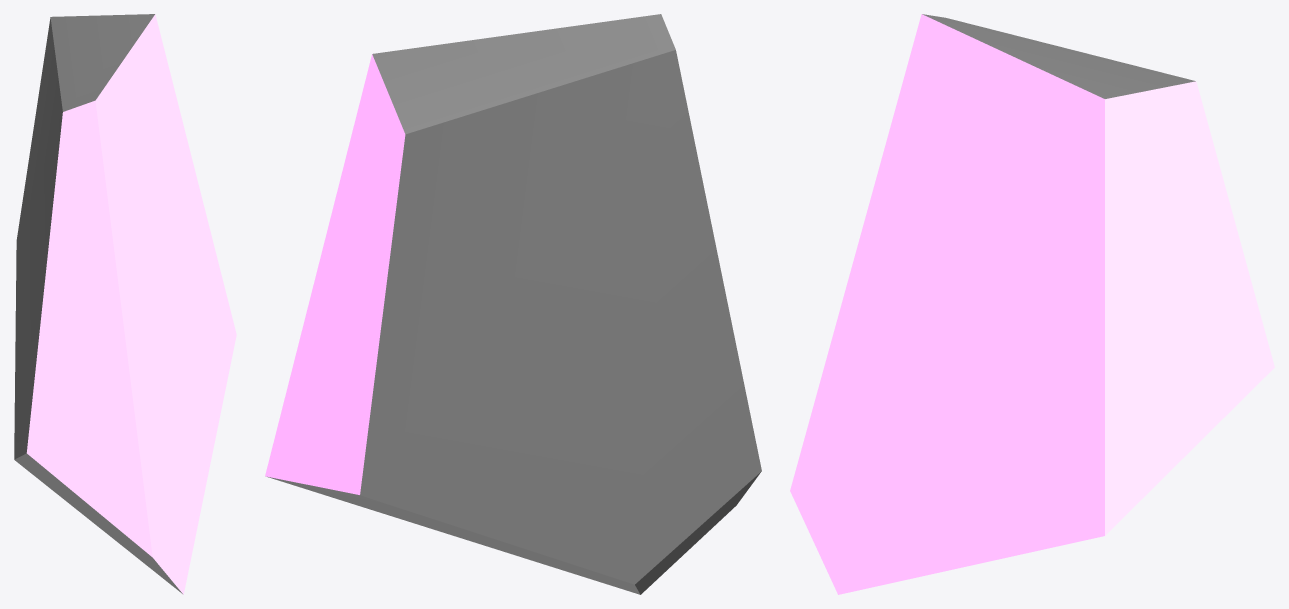
Rendered from Cone_after_004.fbx.
3 renders of one model, left to right at view 1: azimuth 30°, elevation 25°; view 2: azimuth 150°, elevation 25°; view 3: azimuth 270°, elevation 25°, orthographic. The views are drawn at different scales.
Parts seen in each view (by area): view 1: Cone_after_004; view 2: Cone_after_004; view 3: Cone_after_004.
Boxes of the visible parts, x1=… form: Cone_after_004: x1=14, y1=14, x2=236, y2=594; Cone_after_004: x1=265, y1=14, x2=761, y2=594; Cone_after_004: x1=790, y1=14, x2=1274, y2=594.
Size of the model in its own units: 10.6 by 16.57 by 13.19.
